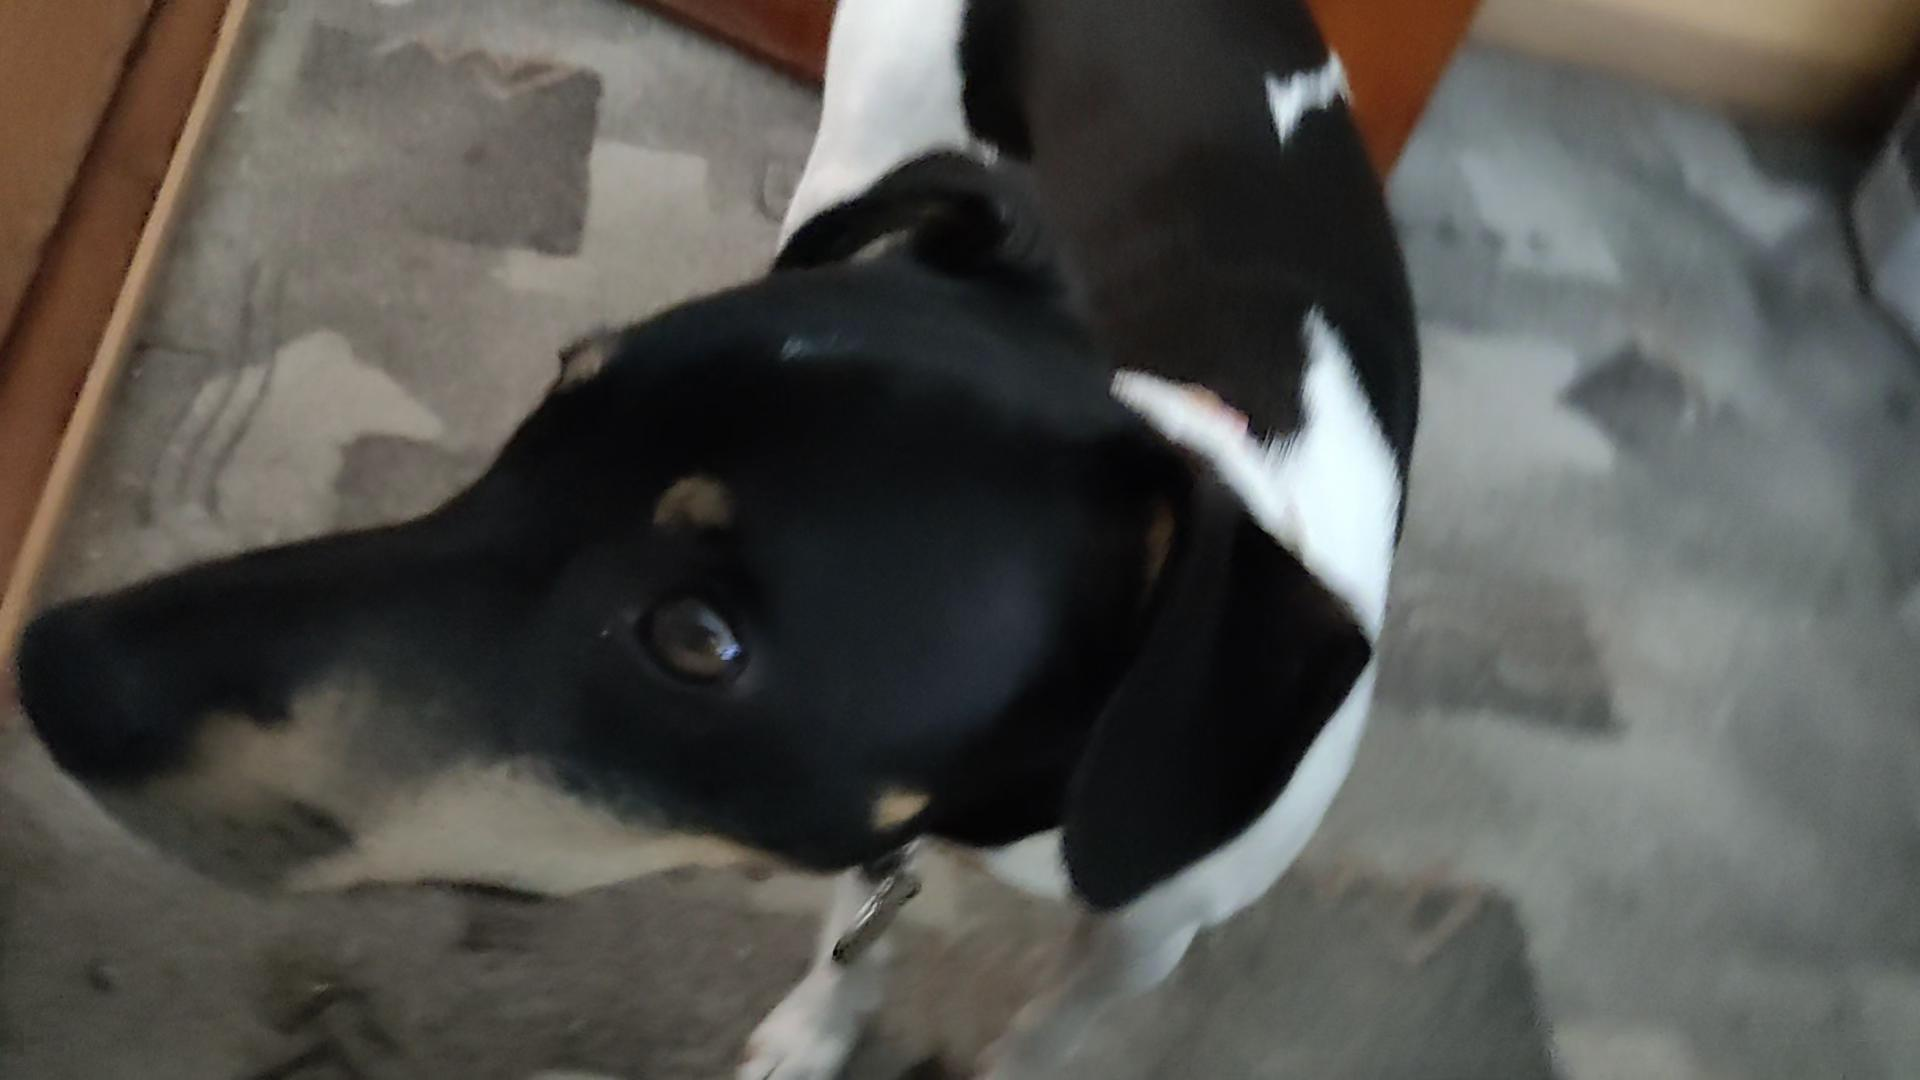Dog: (9, 0, 1437, 1079)
